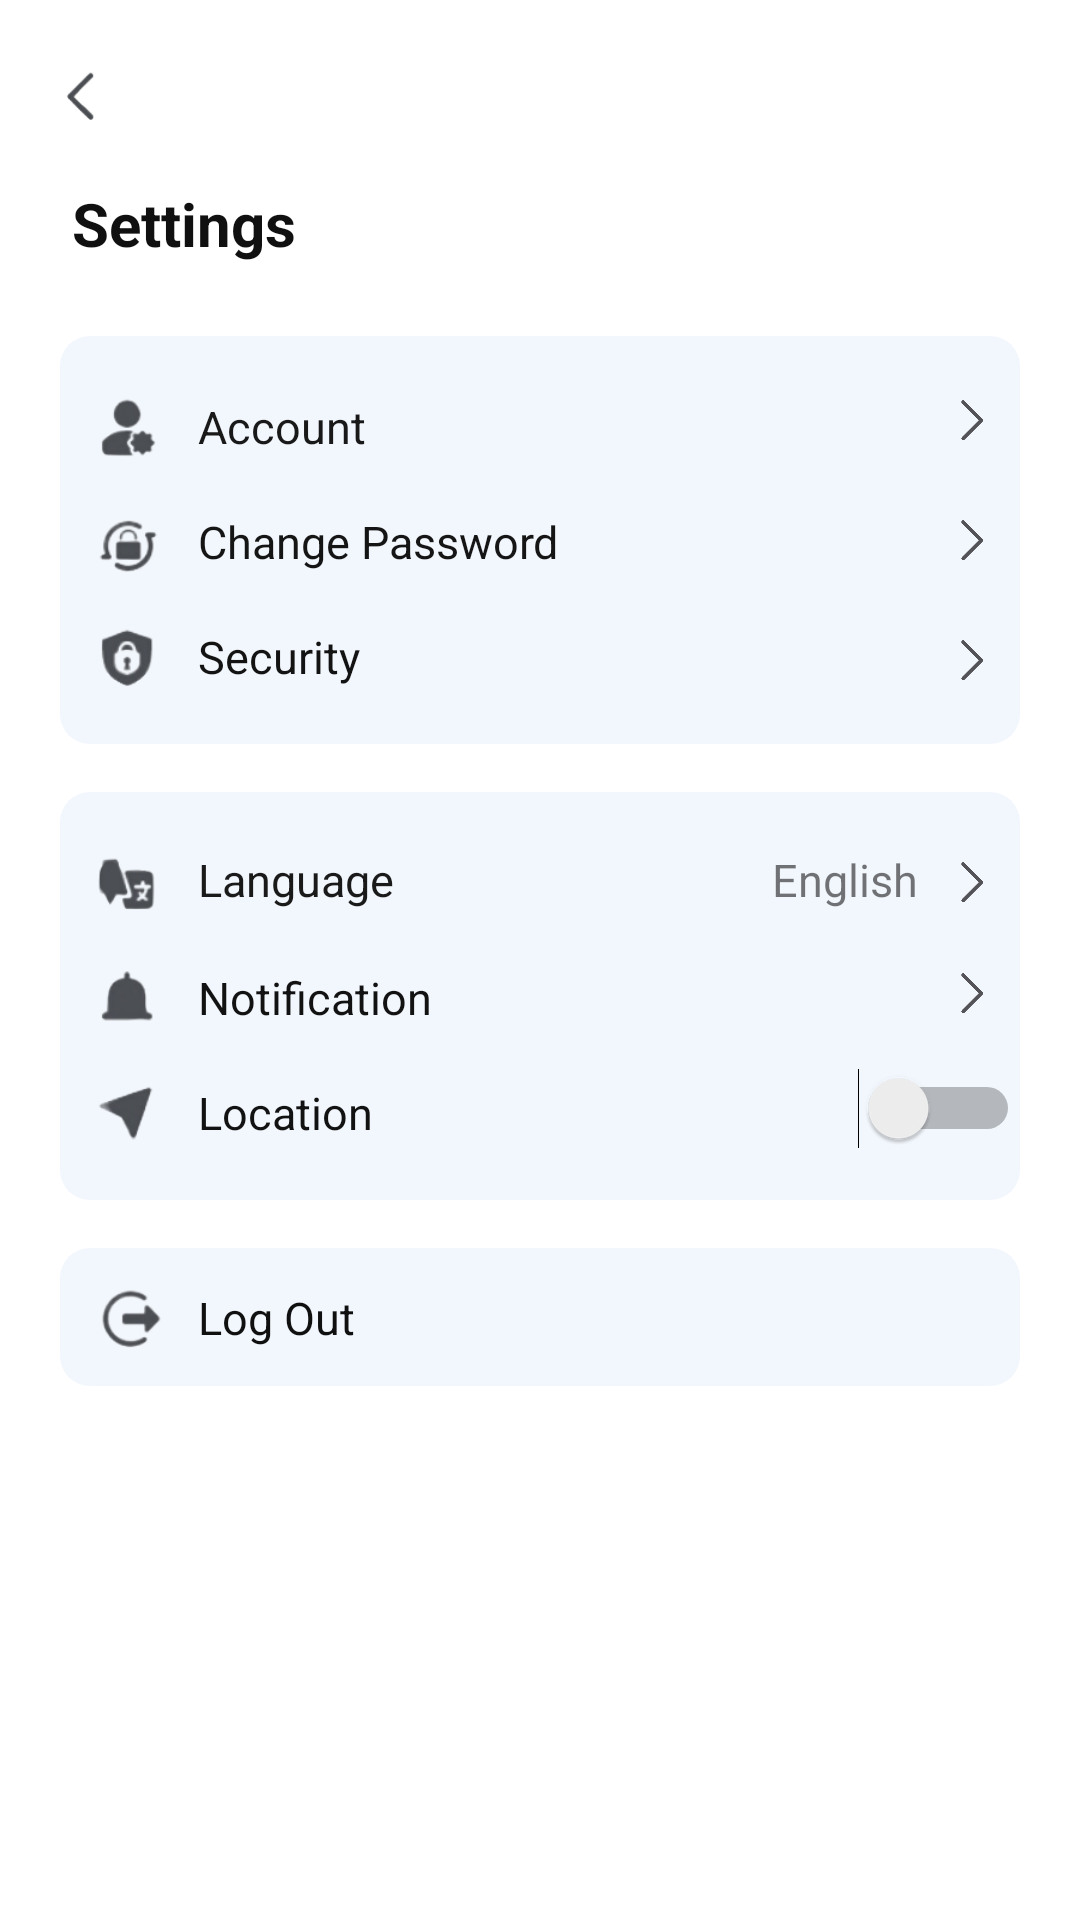

Where icons sit on this 1080 × 1920 app screen, as BBox(x1, y1, x2, y2):
akunnnn: BBox(102, 400, 155, 456)
arrow back: BBox(67, 72, 94, 120)
arrow right: BBox(961, 400, 983, 440), BBox(961, 520, 983, 560), BBox(961, 640, 983, 680), BBox(961, 862, 983, 902), BBox(961, 973, 983, 1013)
gembok: BBox(100, 521, 156, 572)
gembok secur: BBox(102, 630, 153, 686)
